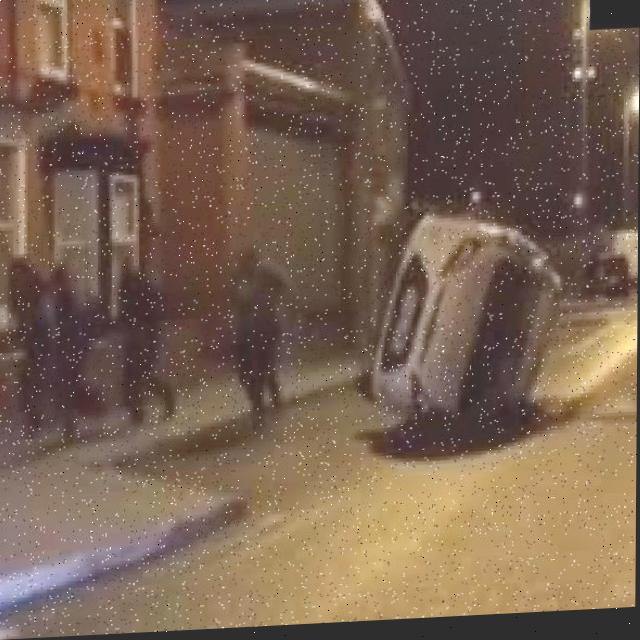single accident: (352, 183, 569, 474)
